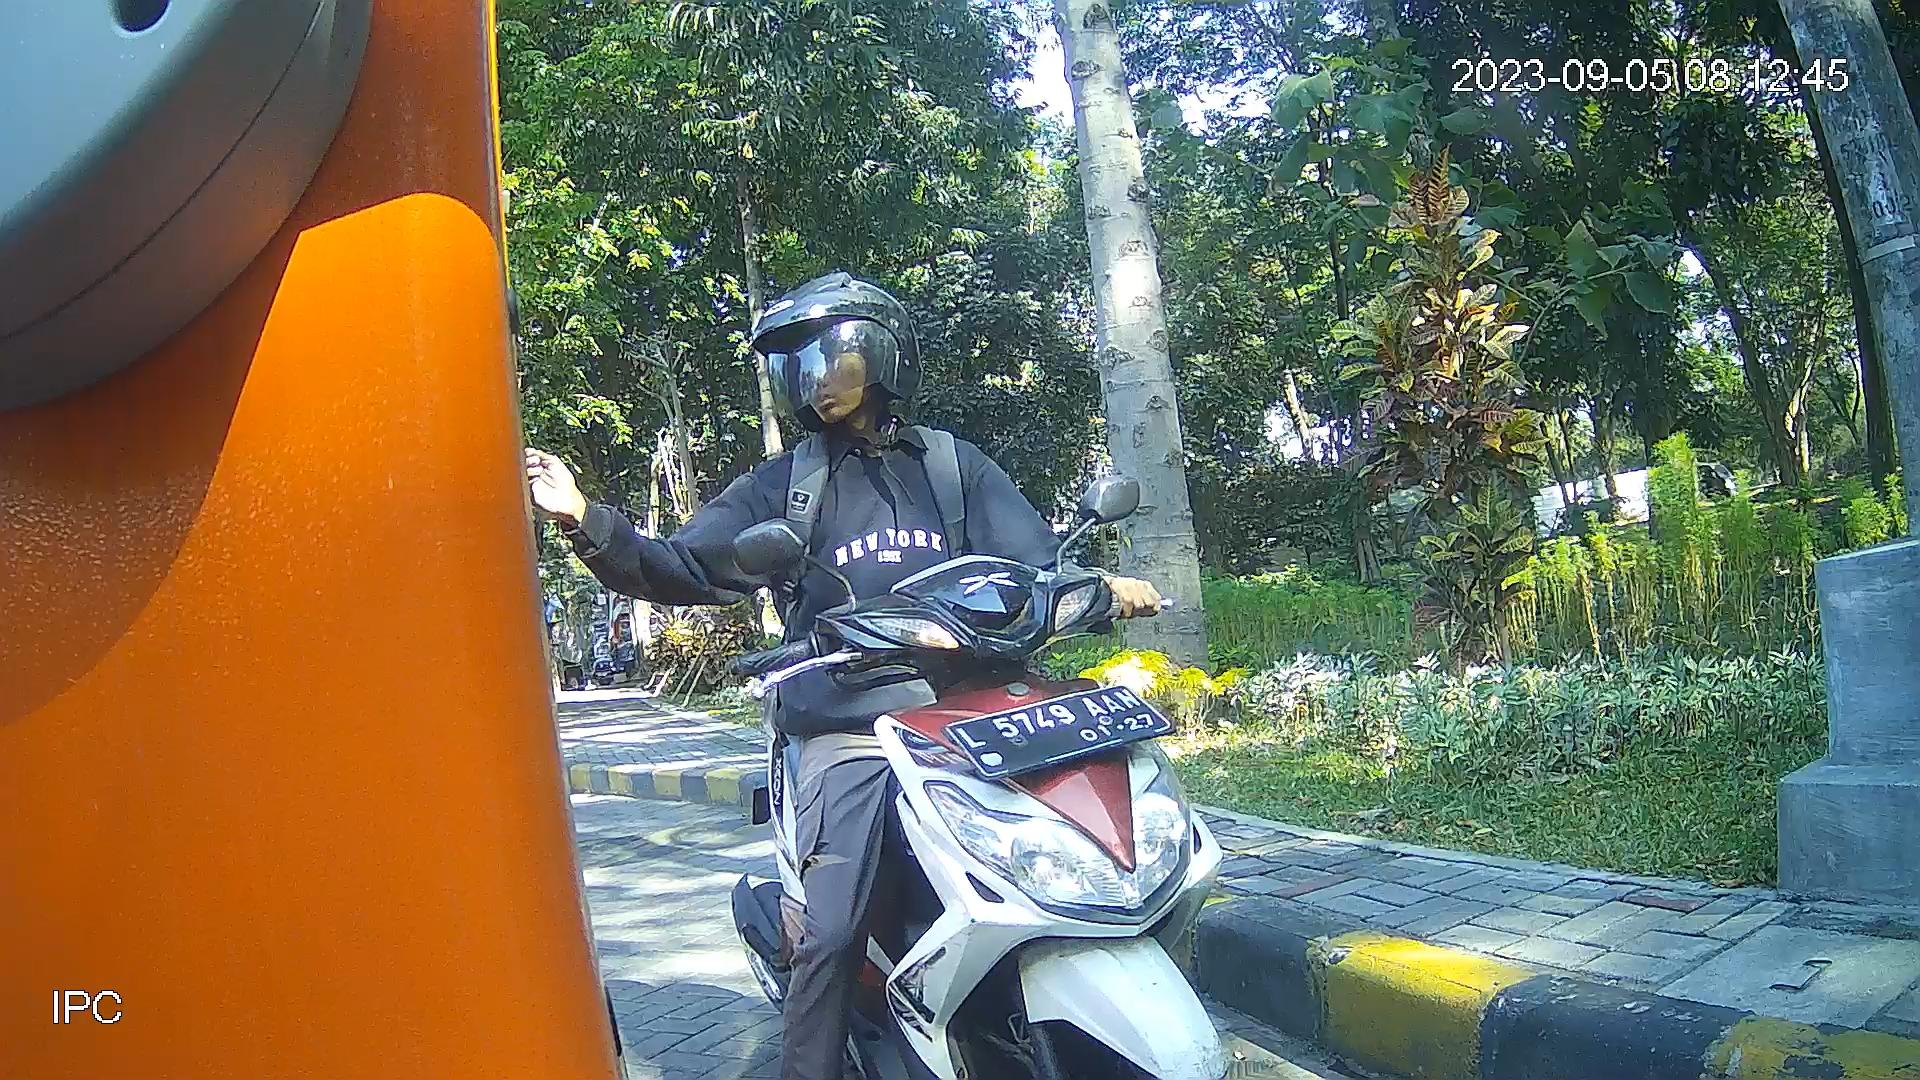plat: (938, 682, 1179, 783)
